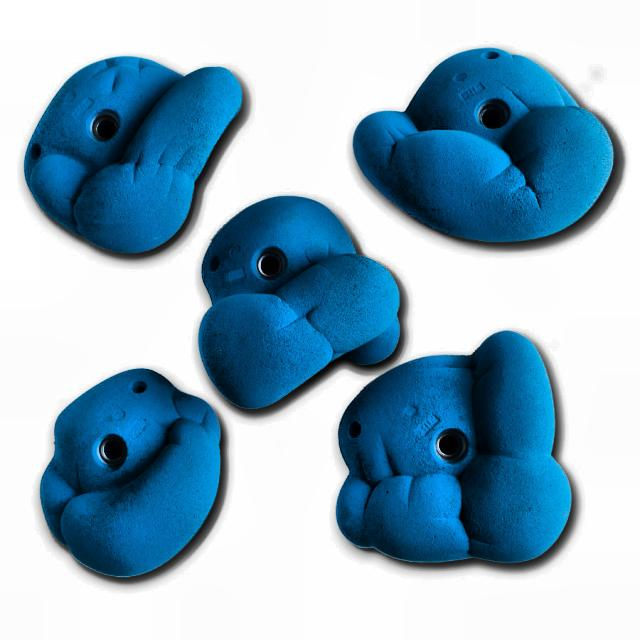Hold: (332, 332, 566, 566), (350, 45, 618, 244), (200, 191, 408, 406), (23, 57, 230, 251), (42, 373, 221, 578)
